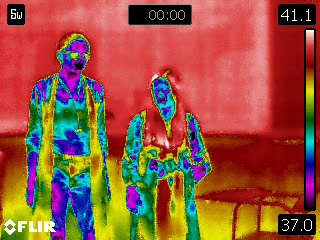human: (25, 32, 115, 240), (121, 67, 215, 240)
